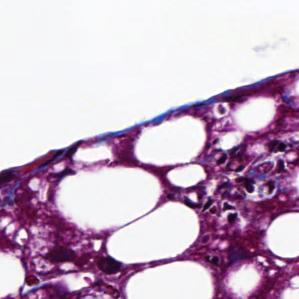inflammation: (193, 148, 277, 224), (19, 237, 84, 280)
